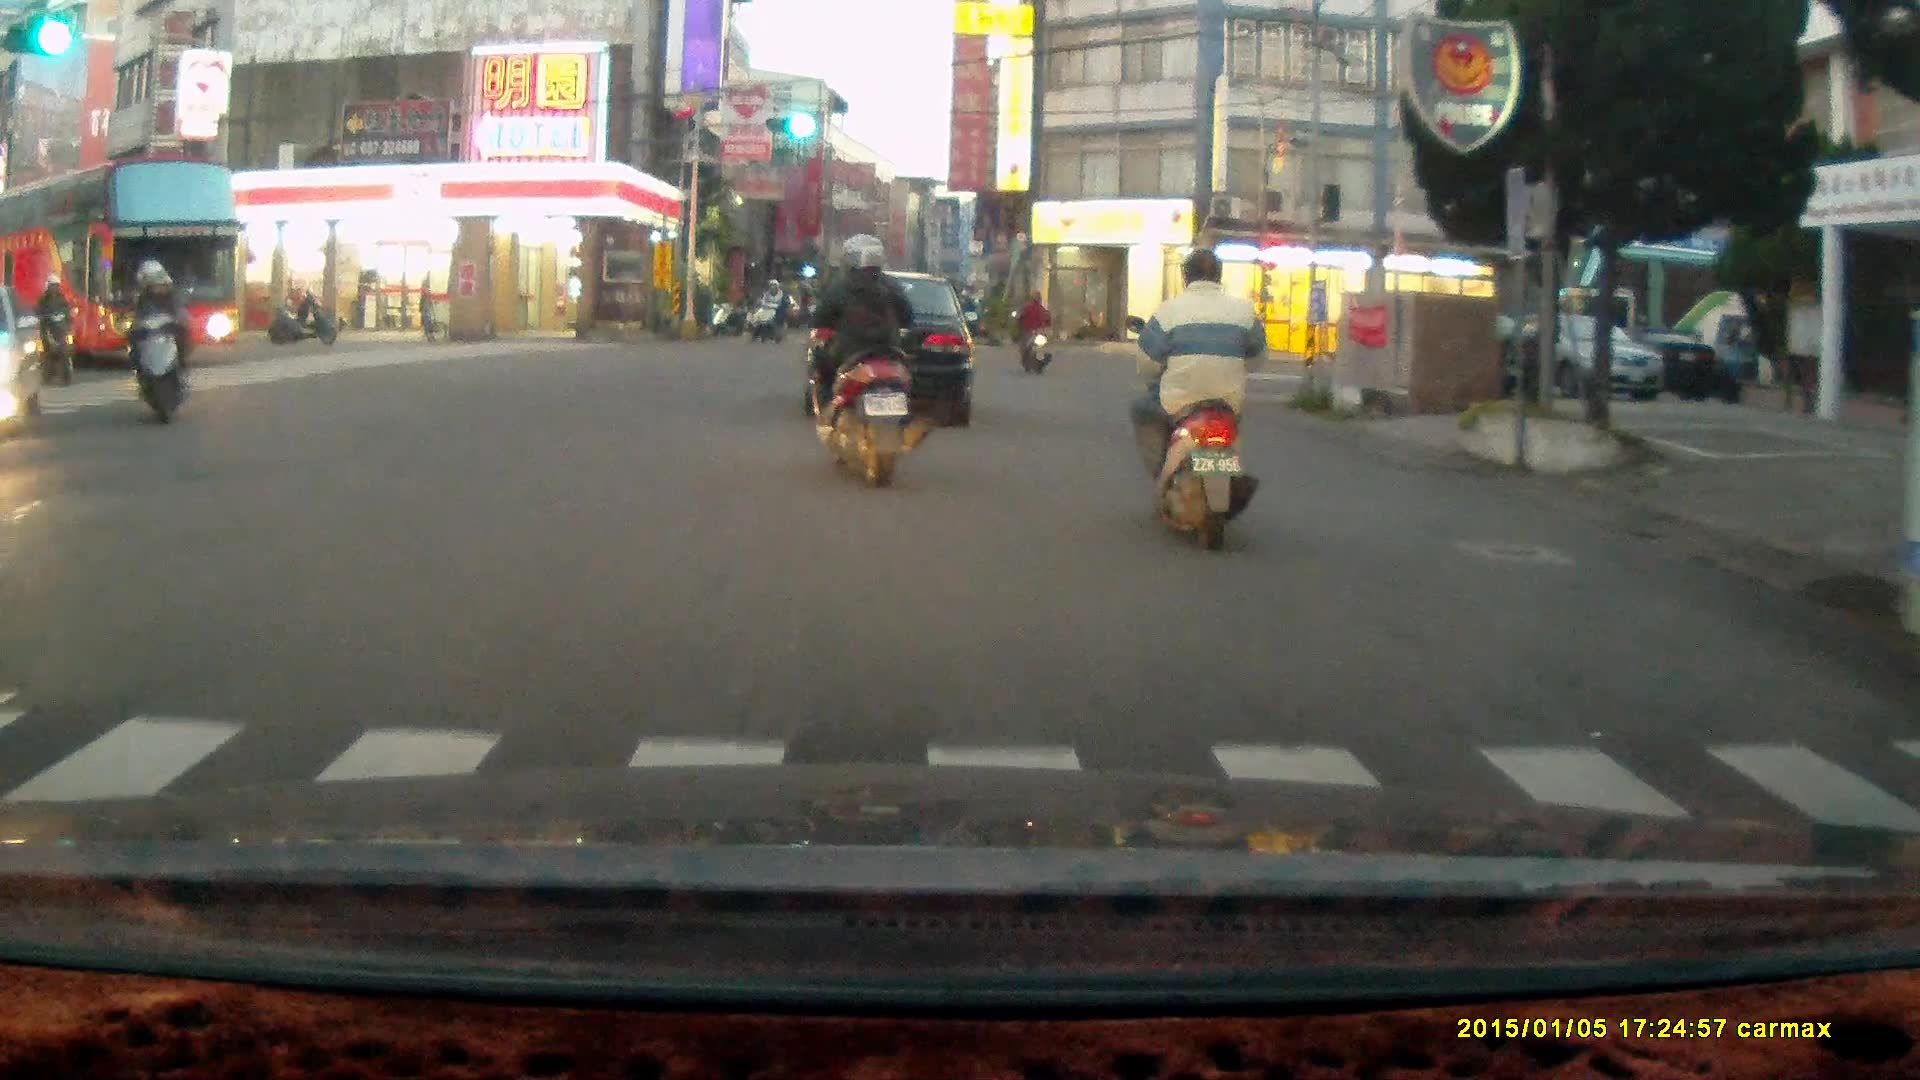rider: (1125, 251, 1263, 556), (798, 230, 935, 496), (119, 258, 193, 429), (31, 276, 78, 387), (1009, 294, 1052, 379), (750, 278, 788, 343)
vehicle: (1, 163, 240, 368), (1459, 312, 1669, 404)
